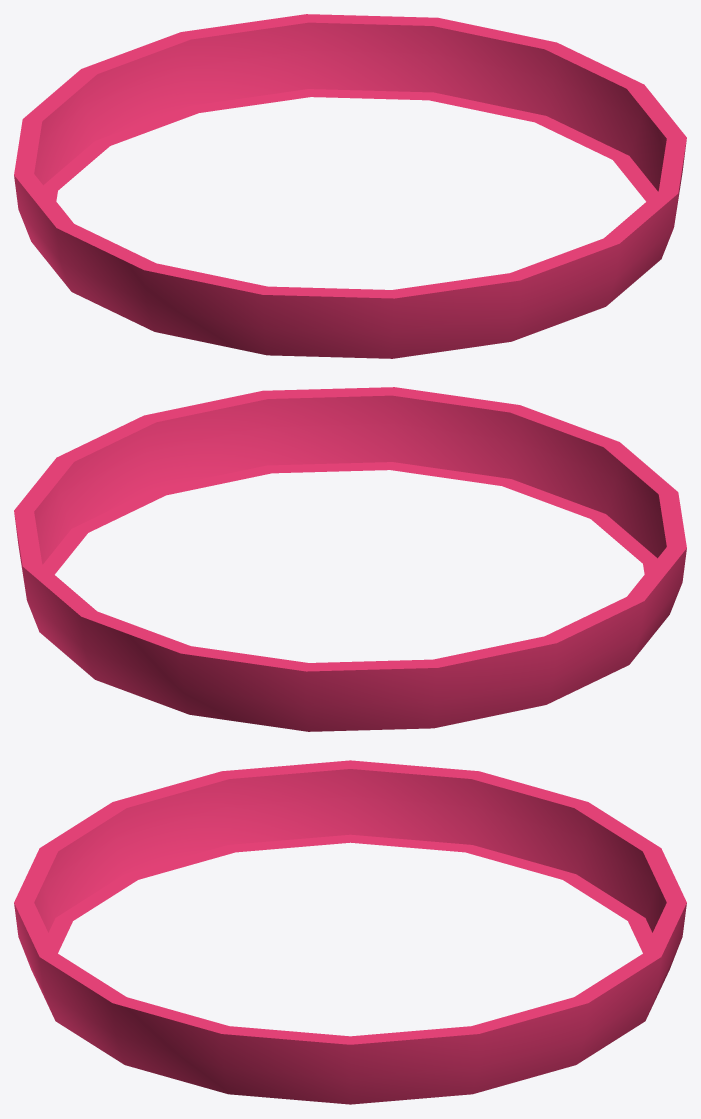
Rendered from Body_Prop_Waist_01.fbx.
3 renders of one model, top to bottom at view 1: azimuth 30°, elevation 25°; view 2: azimuth 150°, elevation 25°; view 3: azimuth 270°, elevation 25°, orthographic.
Visible parts, largest first — view 1: Body_Prop_Waist_01; view 2: Body_Prop_Waist_01; view 3: Body_Prop_Waist_01.
Part boxes in pixels (x1,y1,x2,y2): Body_Prop_Waist_01: [14, 14, 686, 358]; Body_Prop_Waist_01: [14, 387, 686, 731]; Body_Prop_Waist_01: [14, 760, 686, 1104].
Bounding box in the file's own units: 101 × 11.1 × 101.
